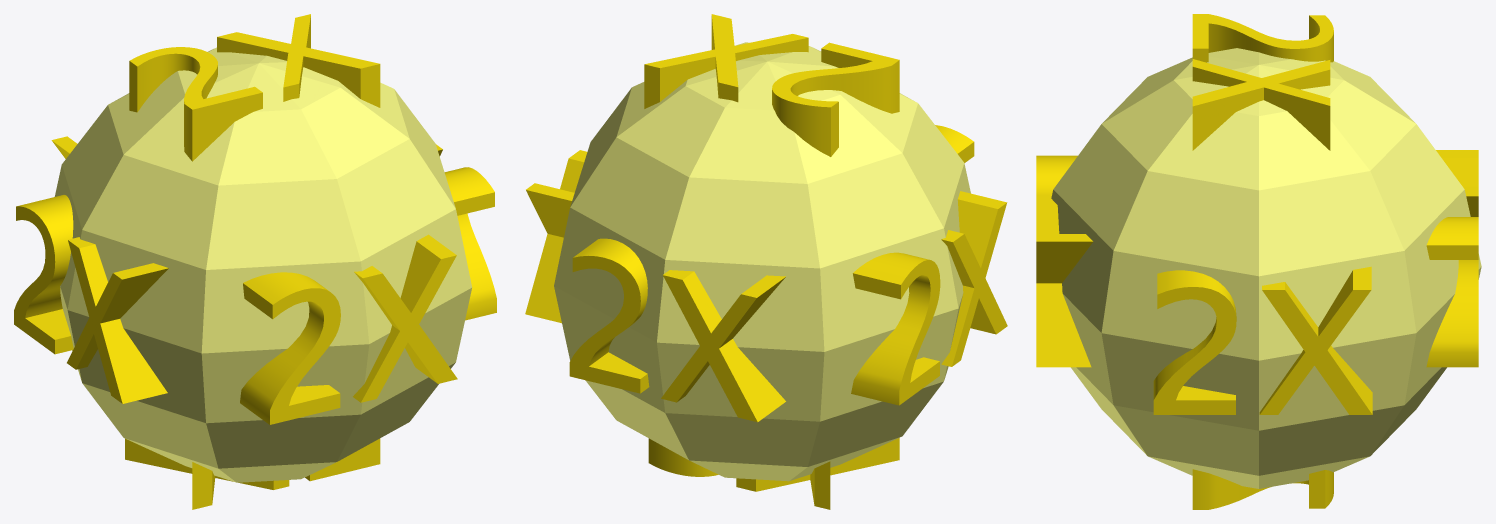
3 renders of one model, left to right at view 1: azimuth 30°, elevation 25°; view 2: azimuth 150°, elevation 25°; view 3: azimuth 270°, elevation 25°, orthographic.
Visible parts, largest first — view 1: group3_typeMesh2; view 2: group3_typeMesh2; view 3: group3_typeMesh2.
Part boxes in pixels (box(x1,y1,x2,y2)): group3_typeMesh2: box(14, 14, 496, 509); group3_typeMesh2: box(525, 14, 1007, 509); group3_typeMesh2: box(1036, 14, 1481, 509).
Size of the model in its own units: 2 by 2.01 by 2.
